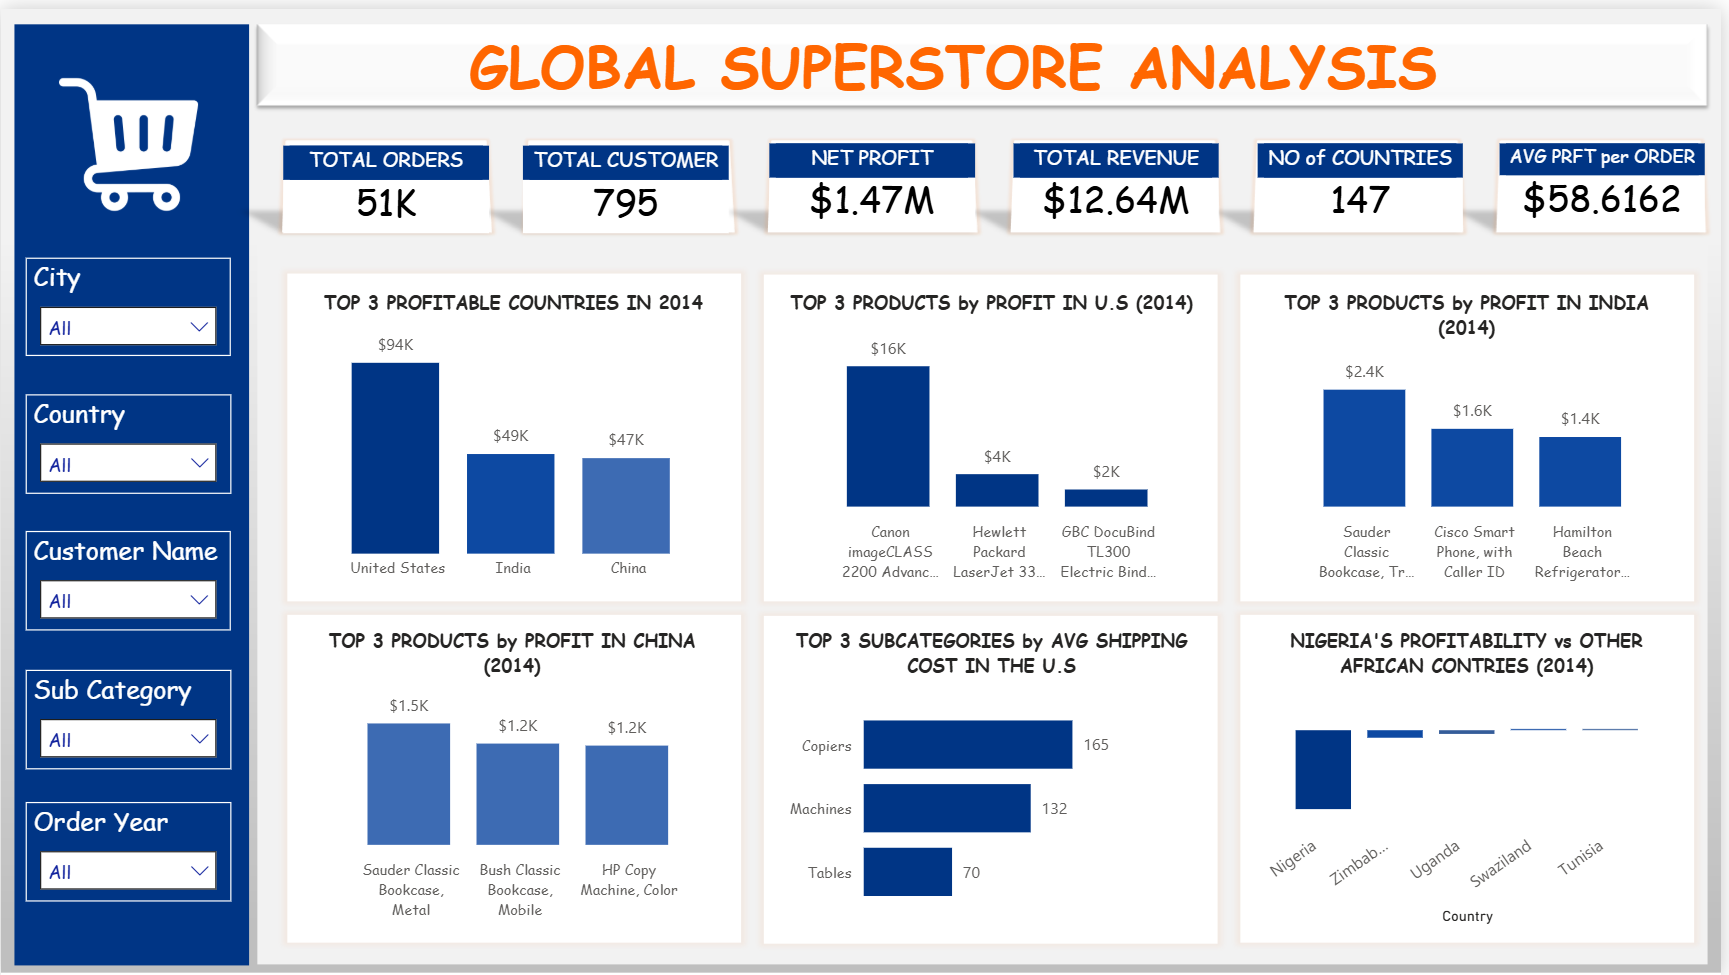

This screenshot's page, from the dashboard's own definition file:
{"tool":"powerbi","page":{"name":"VISUAL 1","canvas":[1280,720],"ordinal":0},"visuals":[{"type":"columnChart","title":"TOP 3 PROFITABLE COUNTRIES IN 2014","fields":{"Category":["Orders.Country"],"Y":["Measure_Table.Total_Profit 2014"]},"box":[222,208,319,226],"z":0},{"type":"textbox","box":[344,7,763,70],"z":1000},{"type":"columnChart","title":"TOP 3 PRODUCTS by PROFIT IN U.S (2014)","fields":{"Category":["Orders.Product Name"],"Y":["Measure_Table.Total_Profit 2014"],"Series":["Orders.Country"]},"box":[580,208,314,226],"z":2000},{"type":"columnChart","title":"TOP 3 PRODUCTS by PROFIT IN INDIA (2014)","fields":{"Category":["Orders.Product Name"],"Y":["Measure_Table.Total_Profit 2014"],"Series":["Orders.Country"]},"box":[935,208,311,226],"z":3000},{"type":"columnChart","title":"TOP 3 PRODUCTS by PROFIT IN CHINA (2014)","fields":{"Category":["Orders.Product Name"],"Y":["Measure_Table.Total_Profit 2014"],"Series":["Orders.Country"]},"box":[224,460,314,226],"z":4000},{"type":"barChart","title":"TOP 3 SUBCATEGORIES by AVG SHIPPING COST IN THE U.S ","fields":{"Category":["Orders.Sub-Category"],"Y":["Measure_Table.Average Shipping Cost"],"Series":["Orders.Country"]},"box":[580,460,314,226],"z":5000},{"type":"columnChart","title":"NIGERIA''S PROFITABILITY vs OTHER AFRICAN CONTRIES (2014)","fields":{"Category":["Orders.Country"],"Y":["Measure_Table.Total_Profit 2014"]},"box":[935,460,310.8,225.8],"z":6000},{"type":"card","title":"TOTAL ORDERS","fields":{"Values":["Measure_Table.Total_Orders"]},"box":[210,101,153,65],"z":7000},{"type":"card","title":"TOTAL CUSTOMER","fields":{"Values":["Measure_Table.Total Customers"]},"box":[388,101,153,65],"z":8000},{"type":"card","title":"NET PROFIT","fields":{"Values":["Measure_Table.Total_Profit"]},"box":[572.1,100,152.9,65],"z":9000},{"type":"card","title":"TOTAL REVENUE","fields":{"Values":["Measure_Table.Total Sales"]},"box":[753.4,100.7,152.8,65.2],"z":10000},{"type":"card","title":"NO of COUNTRIES","fields":{"Values":["Measure_Table.Total Countries"]},"box":[935.2,100,152.8,65.2],"z":11000},{"type":"card","title":"AVG PRFT per ORDER","fields":{"Values":["Measure_Table.AvgProfitPerOrder 2"]},"box":[1114.8,100,152.8,65.2],"z":12000},{"type":"slicer","title":"City","fields":{"Values":["Orders.City"]},"box":[18.6,185.6,152.6,73.2],"z":13000},{"type":"slicer","title":"Country","fields":{"Values":["Orders.Country"]},"box":[18.2,285.9,152.9,74.1],"z":14000},{"type":"slicer","title":"Customer Name","fields":{"Values":["Orders.Customer Name"]},"box":[18.6,388.8,152.6,74.2],"z":15000},{"type":"slicer","title":"Sub Category","fields":{"Values":["Orders.Sub-Category"]},"box":[18.2,491.2,152.9,74.1],"z":16000},{"type":"slicer","title":"Order Year","fields":{"Values":["Orders.Order- Year"]},"box":[18.2,590,152.9,74.1],"z":17000},{"type":"image","box":[37.1,41.3,116.5,118.6],"z":18000}]}

Visuals, with their boxes in screenshot pixels (x1, y1, x2, y2), scaled from the page's 1280x720 canvas onto the 1729x975 screenshot:
"TOP 3 PROFITABLE COUNTRIES IN 2014" columnChart: BBox(300, 282, 731, 588)
textbox: BBox(465, 9, 1495, 104)
"TOP 3 PRODUCTS by PROFIT IN U.S (2014)" columnChart: BBox(783, 282, 1208, 588)
"TOP 3 PRODUCTS by PROFIT IN INDIA (2014)" columnChart: BBox(1263, 282, 1683, 588)
"TOP 3 PRODUCTS by PROFIT IN CHINA (2014)" columnChart: BBox(303, 623, 727, 929)
"TOP 3 SUBCATEGORIES by AVG SHIPPING COST IN THE U.S " barChart: BBox(783, 623, 1208, 929)
"NIGERIA''S PROFITABILITY vs OTHER AFRICAN CONTRIES (2014)" columnChart: BBox(1263, 623, 1683, 929)
"TOTAL ORDERS" card: BBox(284, 137, 490, 225)
"TOTAL CUSTOMER" card: BBox(524, 137, 731, 225)
"NET PROFIT" card: BBox(773, 135, 979, 223)
"TOTAL REVENUE" card: BBox(1018, 136, 1224, 225)
"NO of COUNTRIES" card: BBox(1263, 135, 1470, 224)
"AVG PRFT per ORDER" card: BBox(1506, 135, 1712, 224)
"City" slicer: BBox(25, 251, 231, 350)
"Country" slicer: BBox(25, 387, 231, 488)
"Customer Name" slicer: BBox(25, 526, 231, 627)
"Sub Category" slicer: BBox(25, 665, 231, 766)
"Order Year" slicer: BBox(25, 799, 231, 899)
image: BBox(50, 56, 207, 217)
